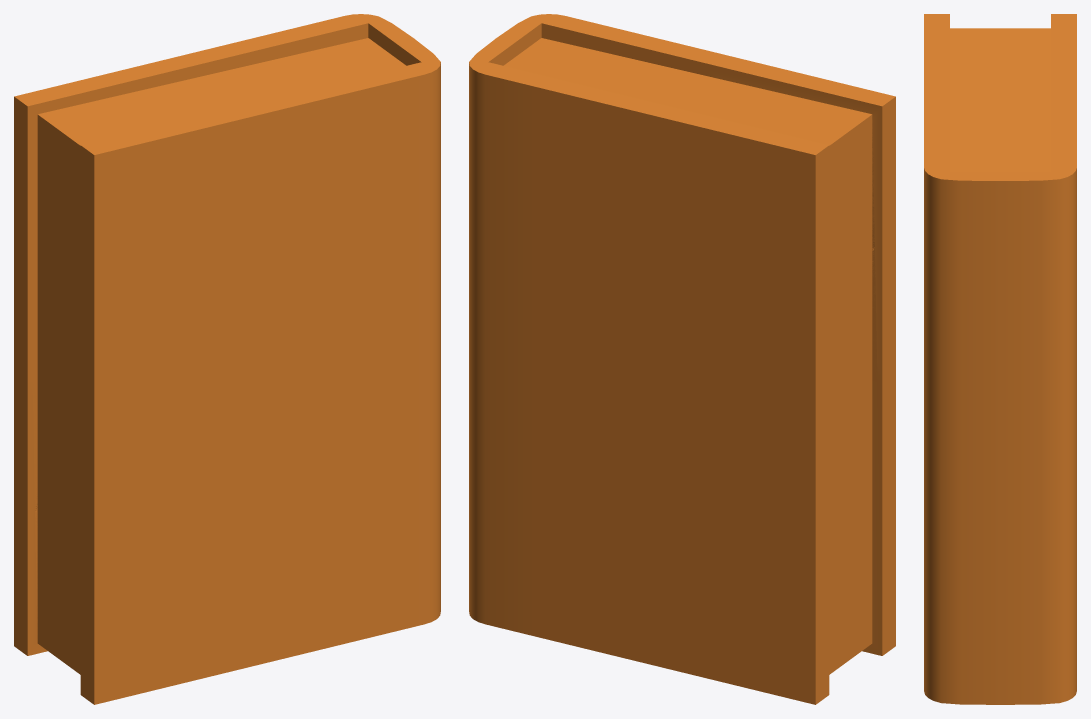
Rendered from alchemistLIVRE_notriggedFORZBRUSH.FBX.
3 views of the same model, side by side, from view 1: azimuth 30°, elevation 25°; view 2: azimuth 150°, elevation 25°; view 3: azimuth 270°, elevation 25° (orthographic). The views are drawn at different scales.
Parts seen in each view (by area): view 1: Livre; view 2: Livre; view 3: Livre.
Boxes of the visible parts, x1,y1,x2,y2 form: Livre: (14, 14, 440, 704); Livre: (469, 14, 895, 704); Livre: (924, 14, 1076, 704).
Size of the model in its own units: 26.54 by 38.78 by 10.25.
